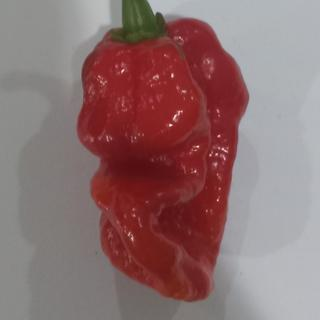Grade-A: (66, 10, 252, 306)
